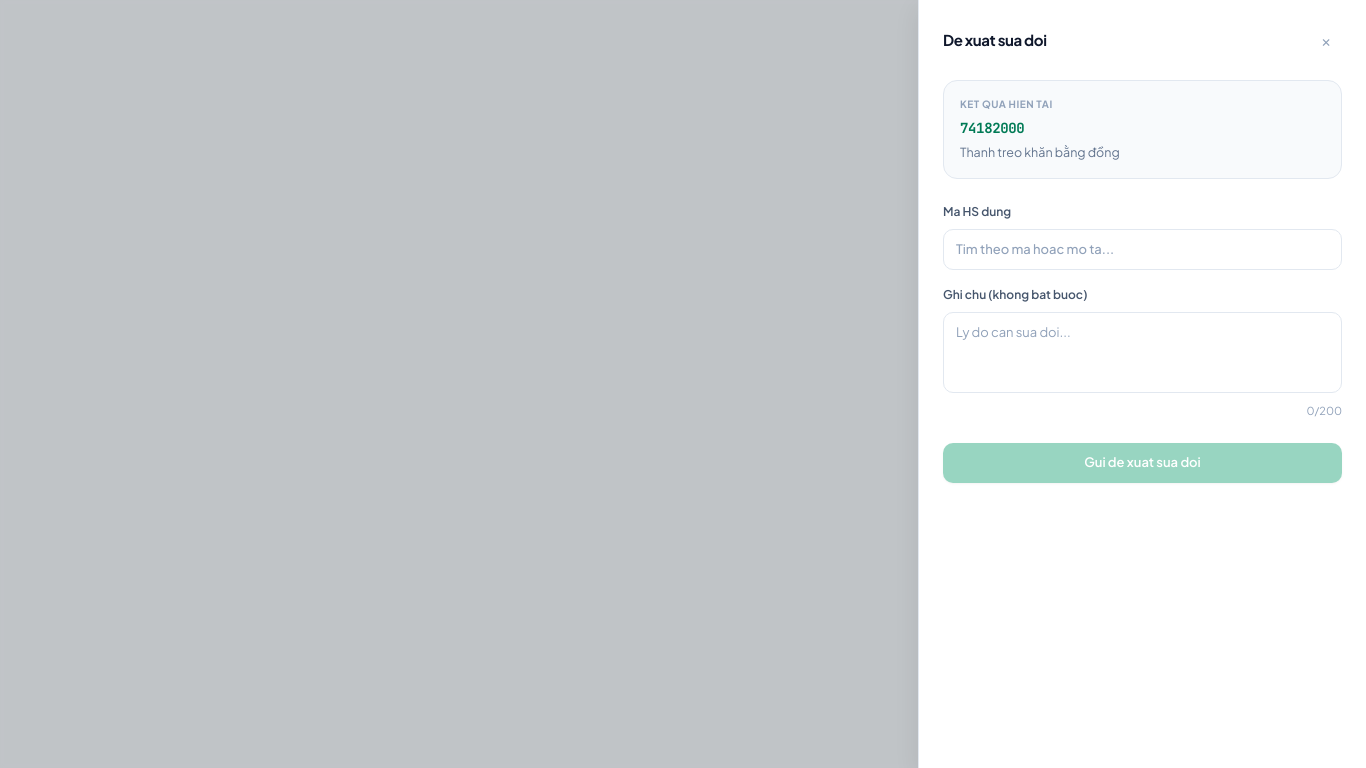
it: CorrectionPanel › shows error when already-corrected 409 response received (AC #4)
In the field with placeholder "Tim theo ma hoac mo ta...": (1142, 250) [943,229,1342,270], type "74199900"
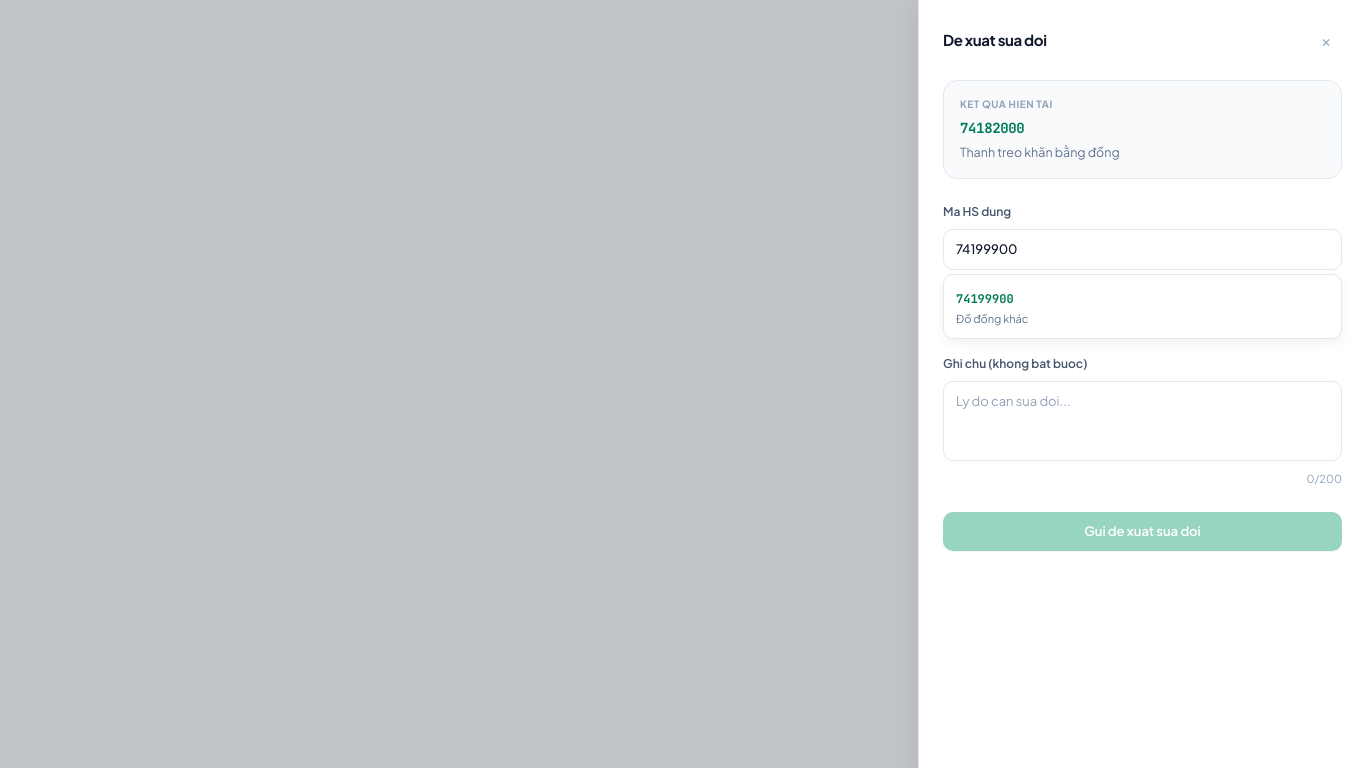
Result: the text "74199900" is shown
Click the text "74199900": (985, 299) [956,291,1014,307]
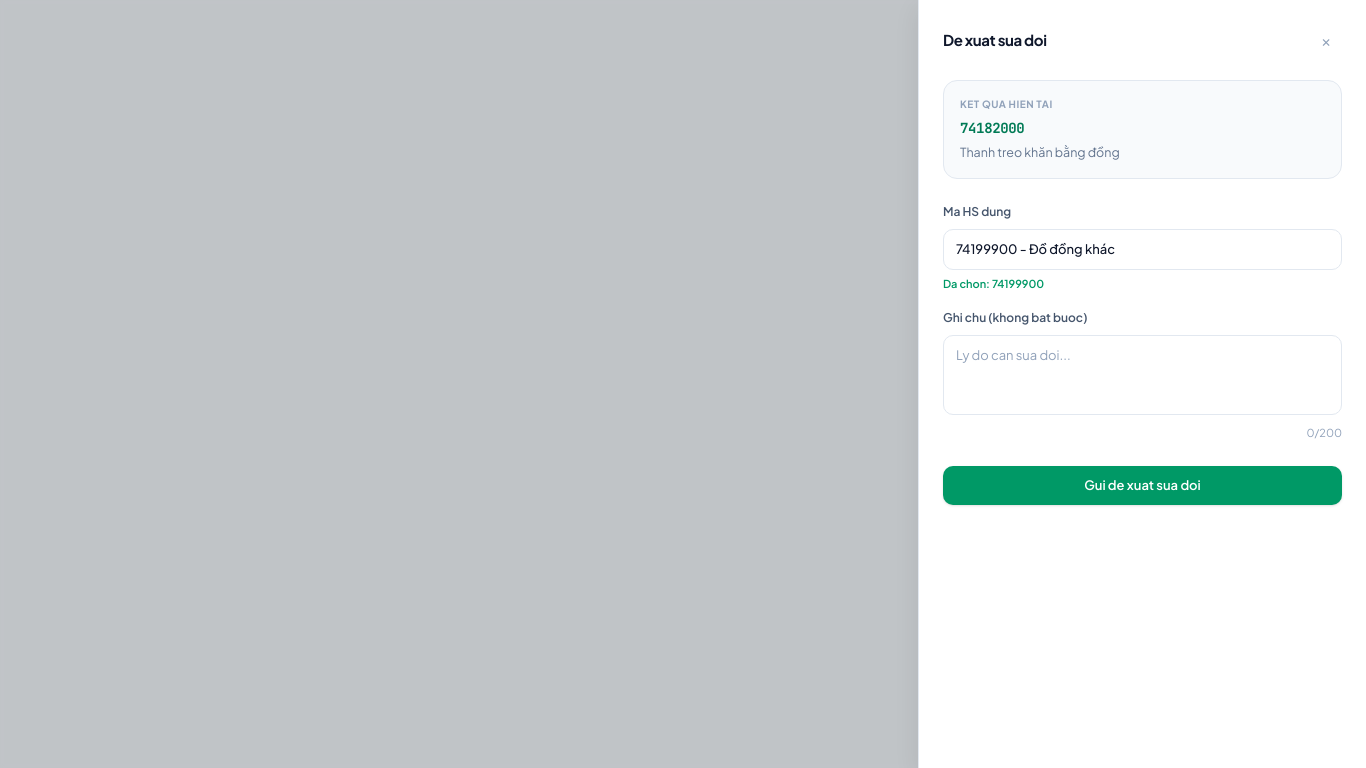
Click the button "Gui de xuat sua doi": (1142, 486) [943,466,1342,505]
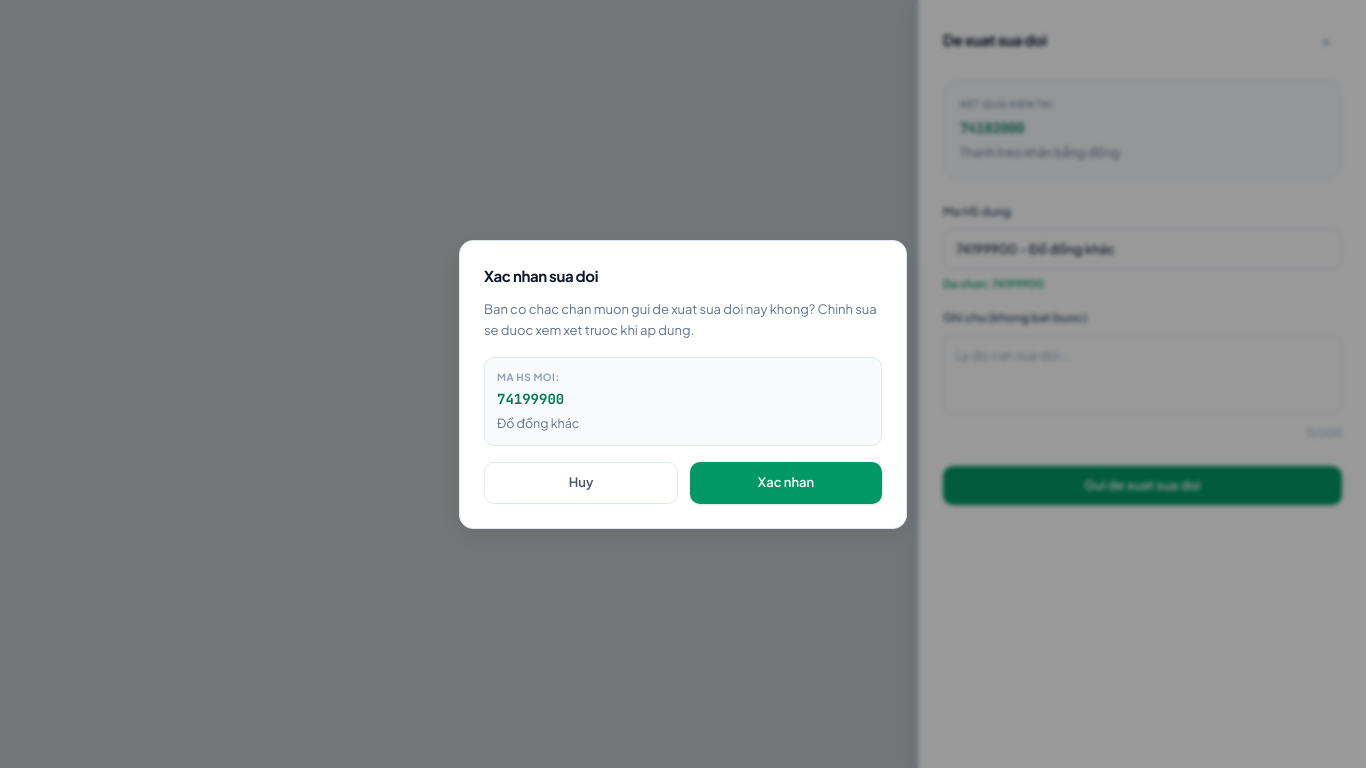
Result: the heading "Xac nhan sua doi" is shown at [484,266,598,284]
Click the button "Xac nhan": (786, 483) [690,462,882,504]
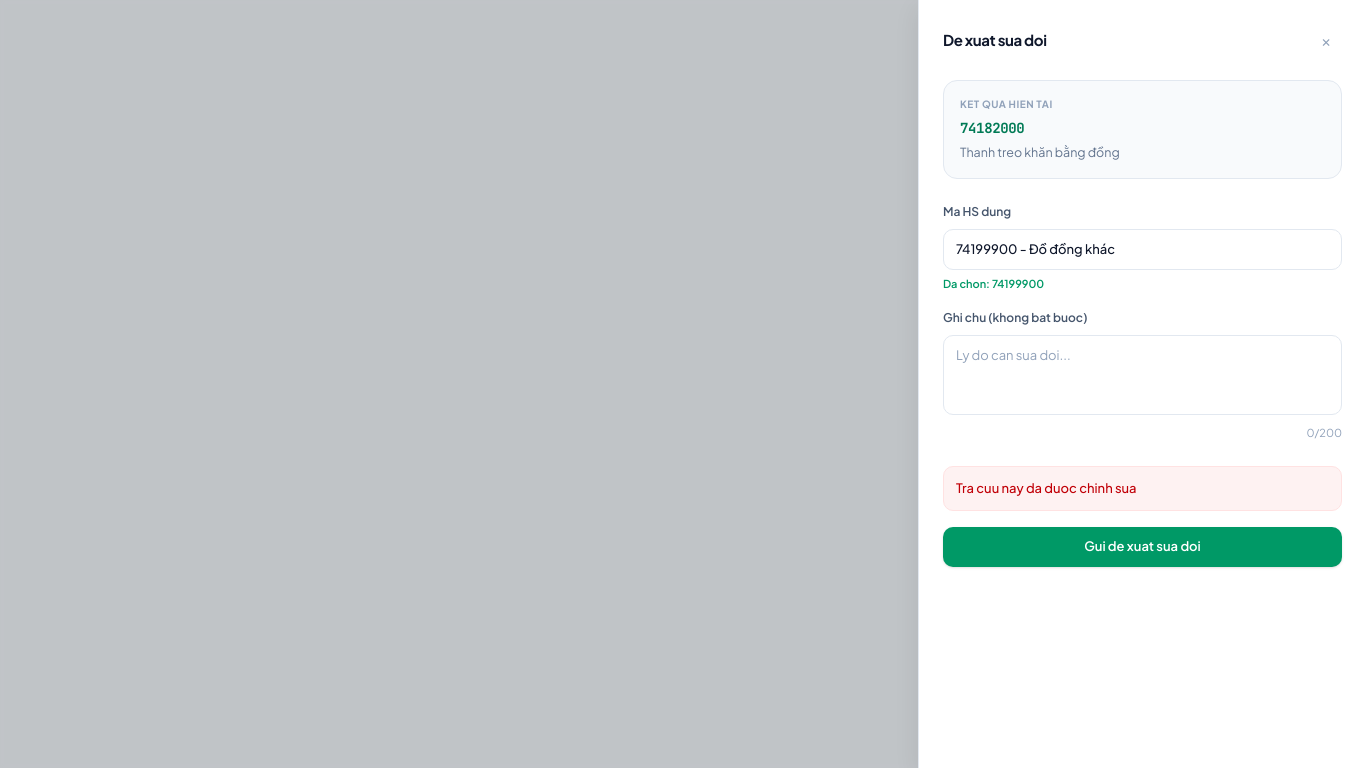
Result: the text "Tra cuu nay da duoc chinh sua" is shown at [943,466,1342,511]
